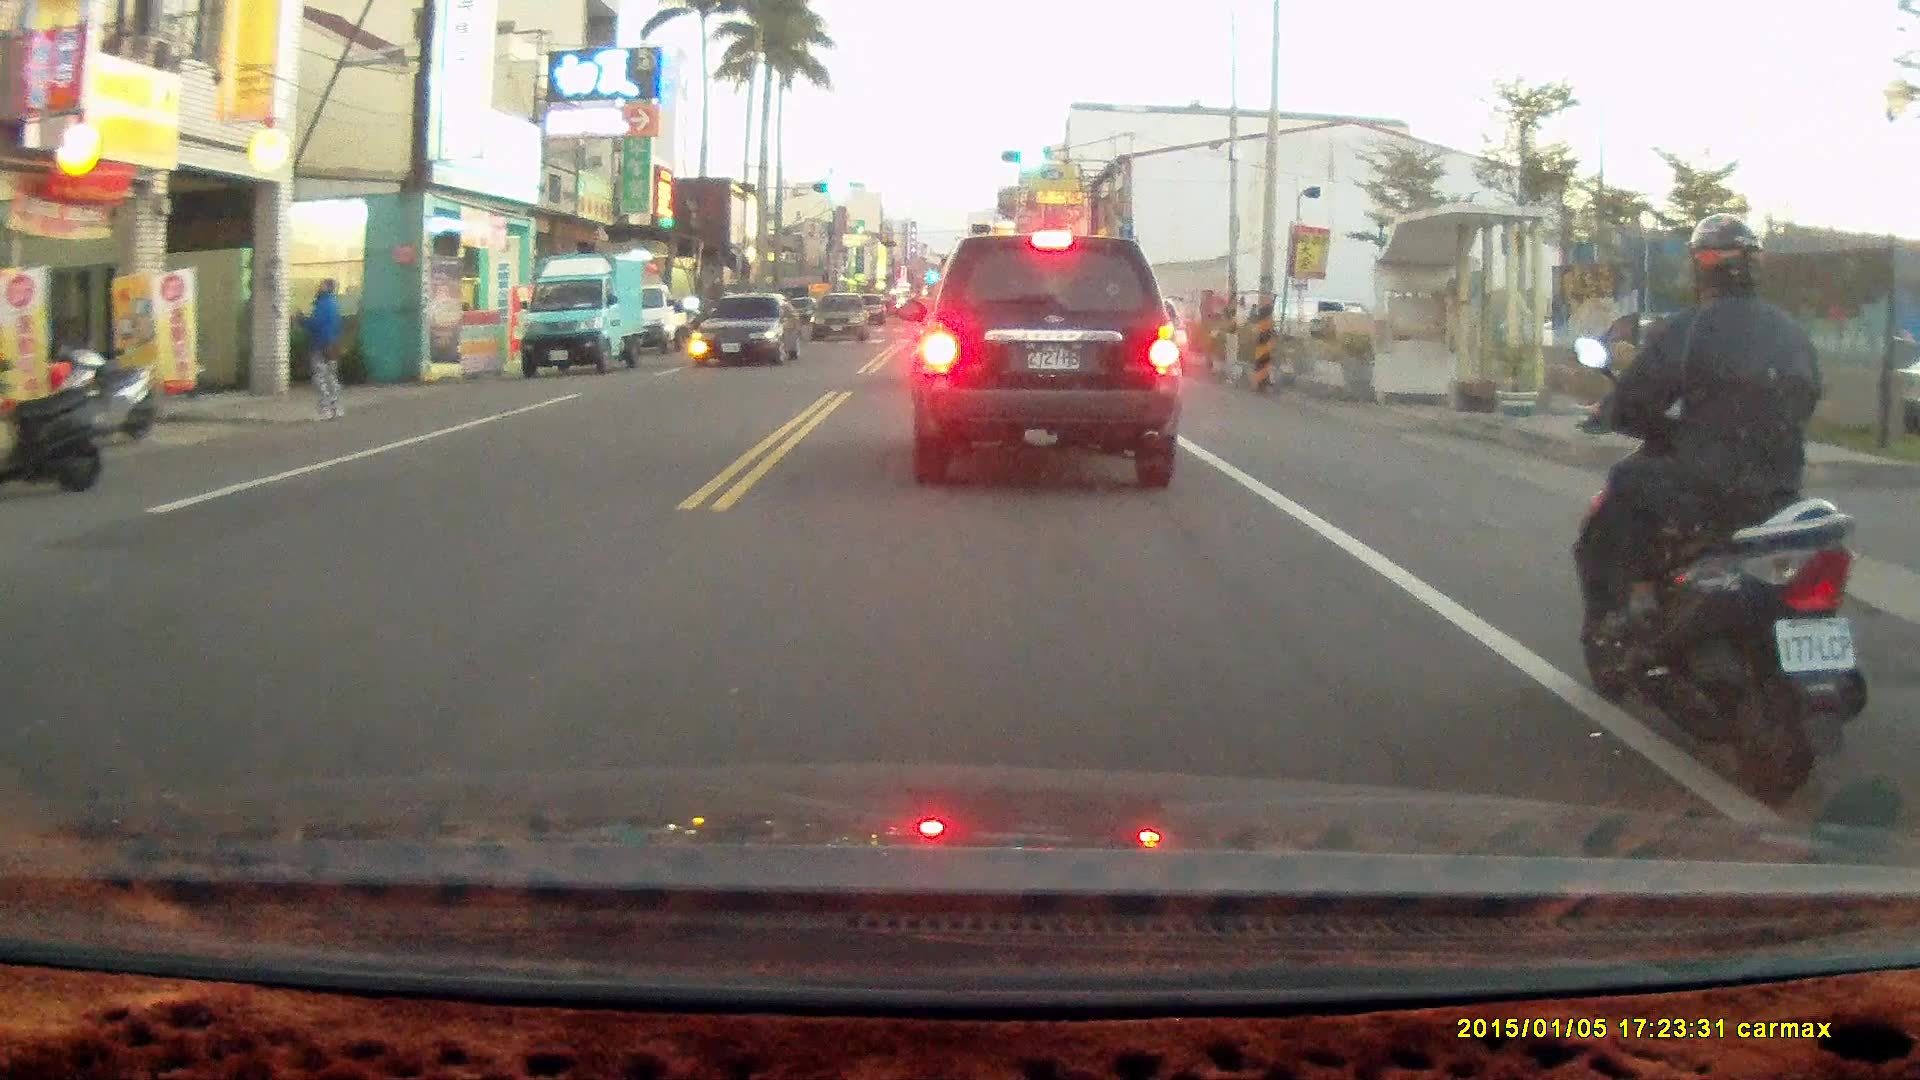pedestrian: (291, 275, 348, 424)
rider: (1568, 212, 1867, 807)
vehicle: (907, 231, 1190, 485), (524, 251, 651, 377), (689, 293, 804, 369), (812, 294, 872, 342)
